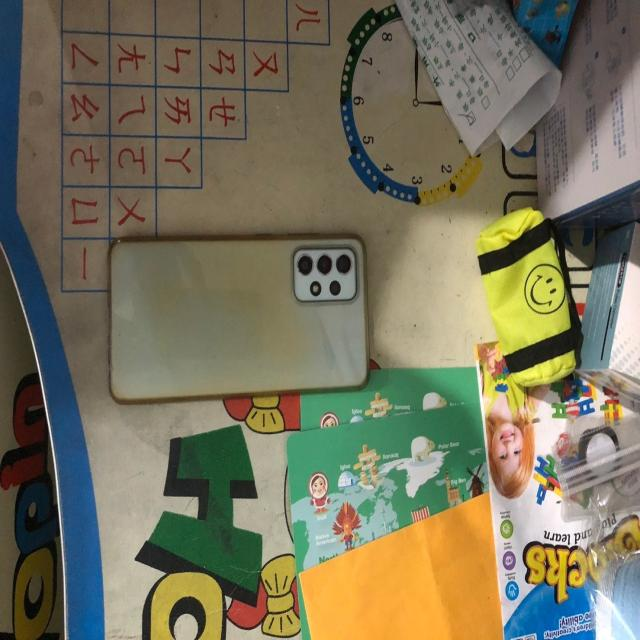phone: (95, 216, 383, 426)
